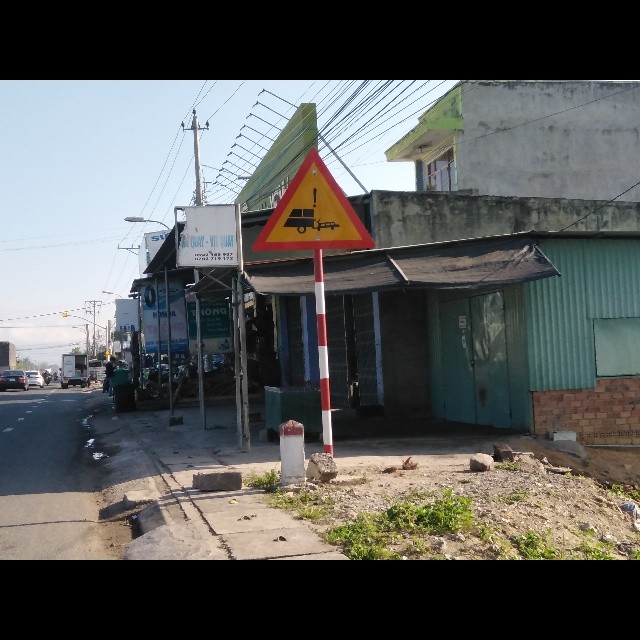Đoạn đường hay xảy ra tai nạn: (251, 149, 377, 250)
